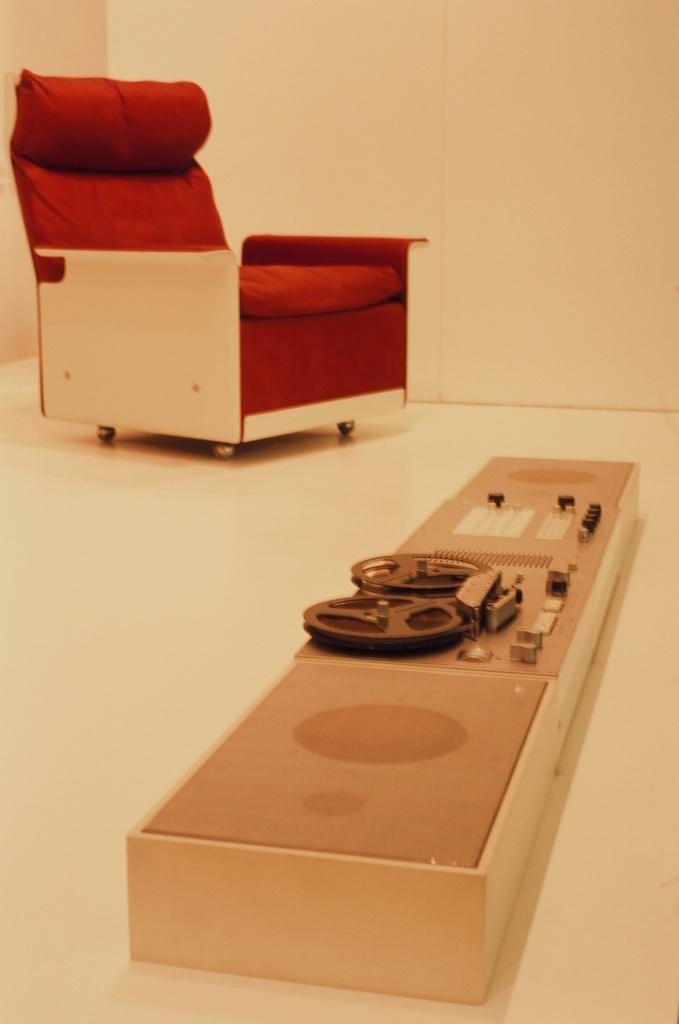Chair: (12, 76, 379, 463)
